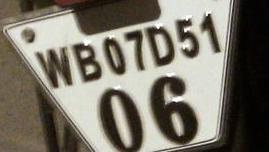0: (96, 86, 145, 151), (102, 34, 128, 76)
1: (197, 11, 225, 53)
5: (173, 13, 201, 58)
6: (148, 73, 199, 145)
7: (122, 26, 148, 70)
B: (70, 39, 104, 83)
D: (144, 23, 176, 66)
W: (33, 44, 74, 88)
